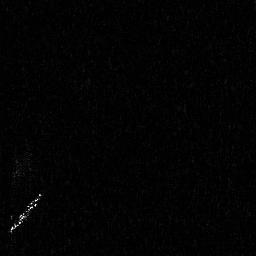ship: (9, 190, 44, 234)
